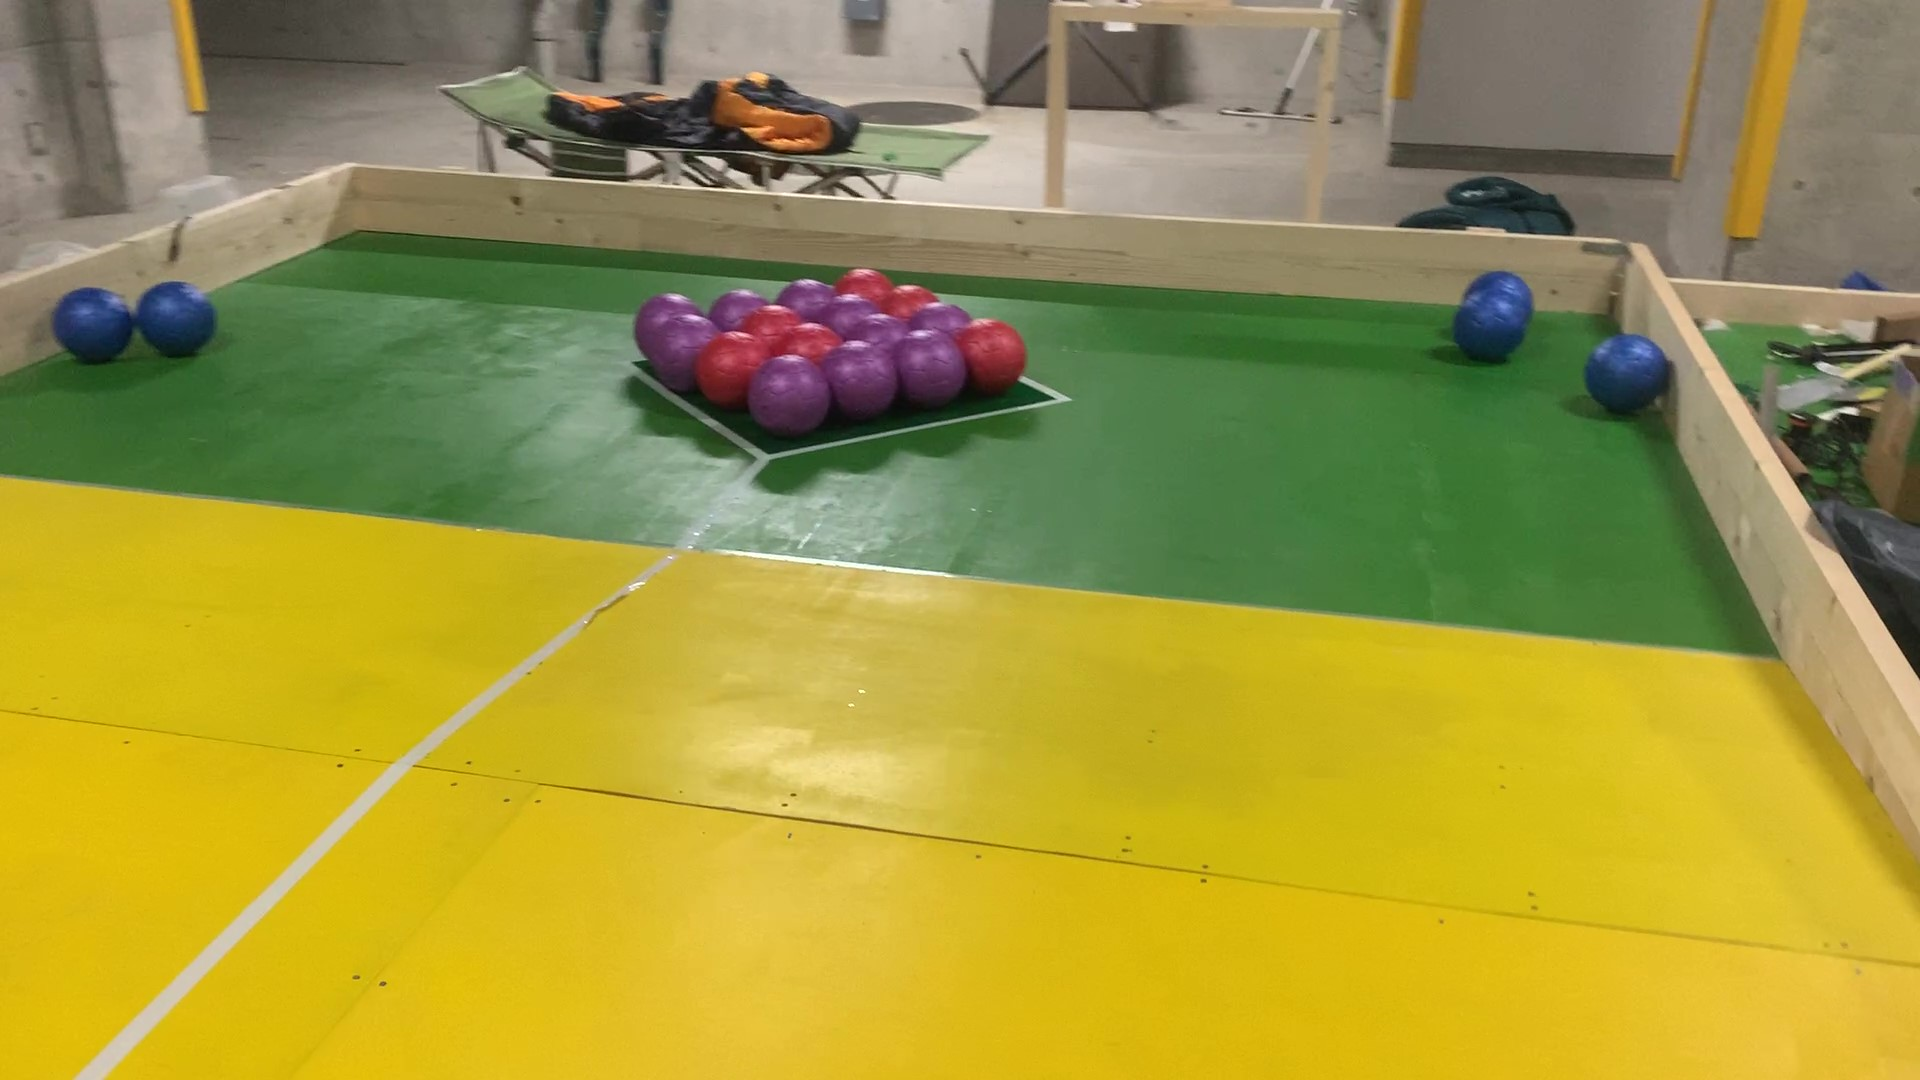blue: (58, 286, 134, 357), (1590, 339, 1656, 406), (147, 289, 211, 351), (1458, 300, 1519, 353), (1476, 272, 1525, 302)
purple: (754, 364, 815, 430), (910, 339, 955, 399), (656, 323, 698, 385), (836, 345, 879, 405), (854, 312, 904, 345), (782, 277, 827, 306), (640, 293, 689, 318), (921, 300, 964, 327), (714, 295, 751, 326), (824, 303, 854, 329)
red: (964, 320, 1020, 382), (710, 344, 750, 394), (887, 281, 928, 312), (836, 271, 887, 295), (785, 330, 830, 356), (756, 306, 794, 333)
